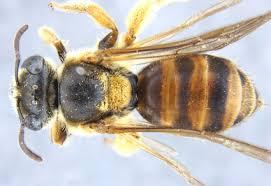Lasioglossum: (12, 2, 267, 178)
